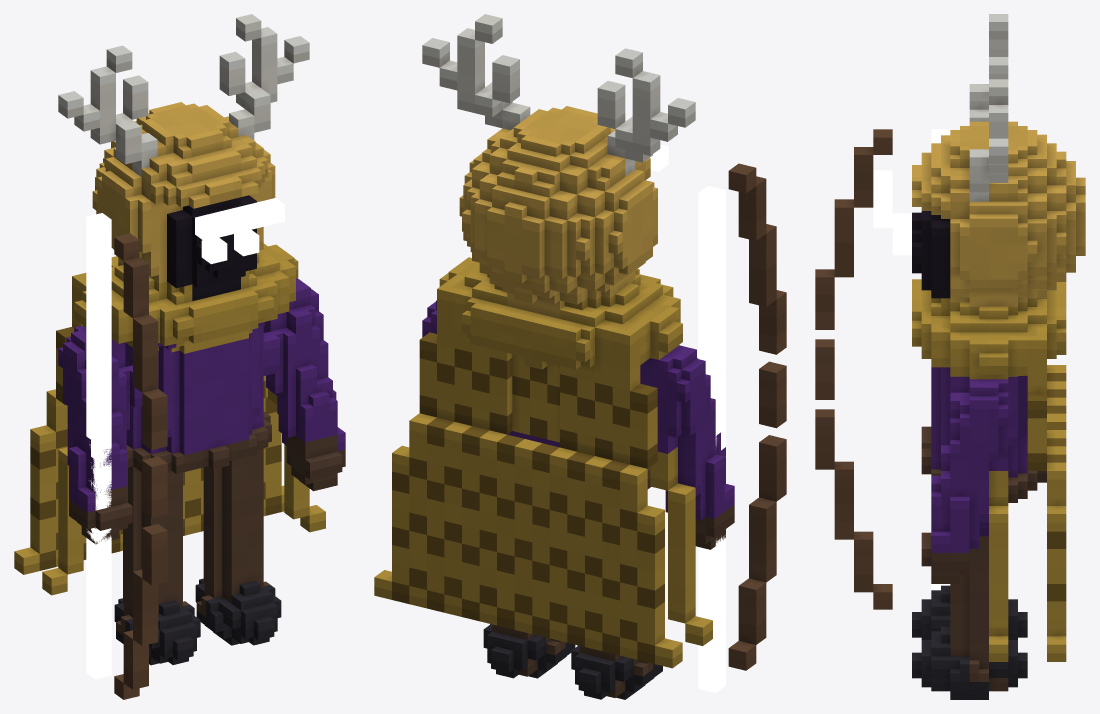
Rendered from u_trappeur__oracle.glb.
3 renders of one model, left to right at view 1: azimuth 30°, elevation 25°; view 2: azimuth 150°, elevation 25°; view 3: azimuth 270°, elevation 25°, orthographic. The views are drawn at different scales.
Visible parts, largest first — view 1: trappeur_body, trappeur_weapon, trappeur_weaponglow, trappeur_glow; view 2: trappeur_body, trappeur_weapon, trappeur_weaponglow; view 3: trappeur_body, trappeur_weapon, trappeur_glow.
Part boxes in pixels (x1=…): trappeur_body: x1=14, y1=14, x2=345, y2=665; trappeur_weapon: x1=114, y1=233, x2=167, y2=699; trappeur_weaponglow: x1=86, y1=213, x2=111, y2=679; trappeur_glow: x1=195, y1=198, x2=284, y2=264; trappeur_body: x1=374, y1=14, x2=734, y2=699; trappeur_weapon: x1=728, y1=163, x2=786, y2=670; trappeur_weaponglow: x1=698, y1=185, x2=725, y2=692; trappeur_body: x1=912, y1=14, x2=1085, y2=699; trappeur_weapon: x1=815, y1=129, x2=892, y2=609; trappeur_glow: x1=873, y1=170, x2=911, y2=255.
Size of the model in its own units: 0.85 by 1.77 by 0.7.
